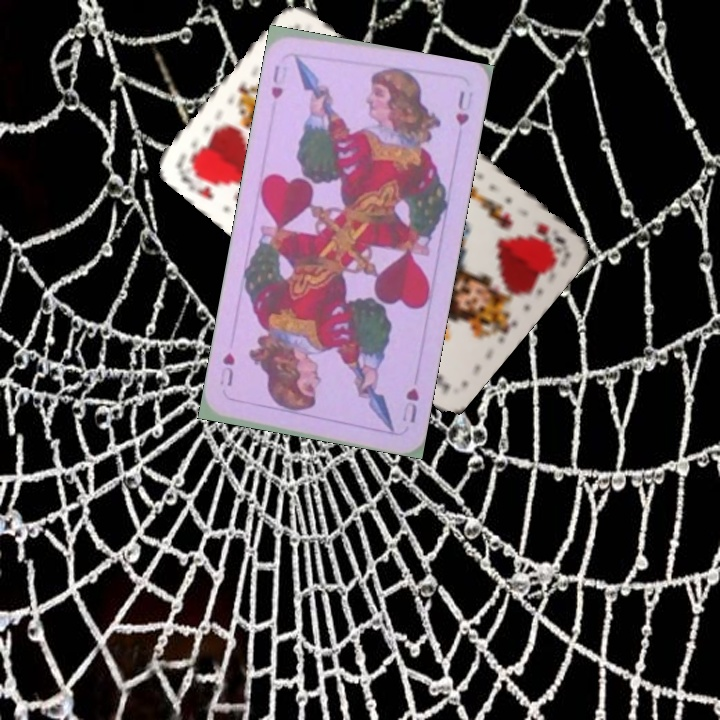HK: (174, 157, 220, 202), (531, 218, 569, 253)
HU: (398, 384, 422, 426), (267, 61, 286, 102)
